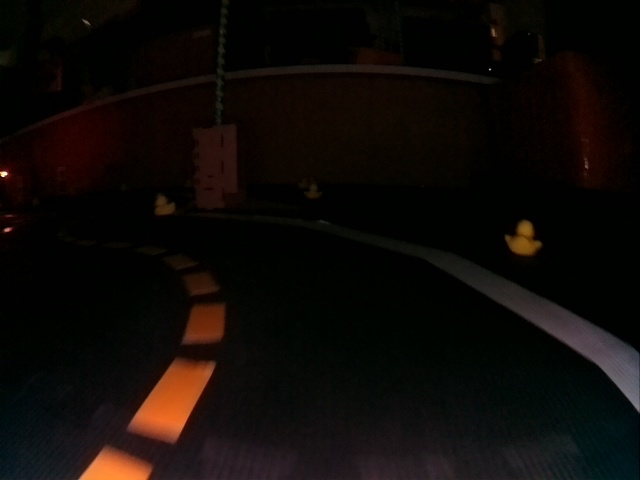Duckie: (505, 220, 541, 254), (156, 196, 176, 216), (306, 185, 321, 199)
